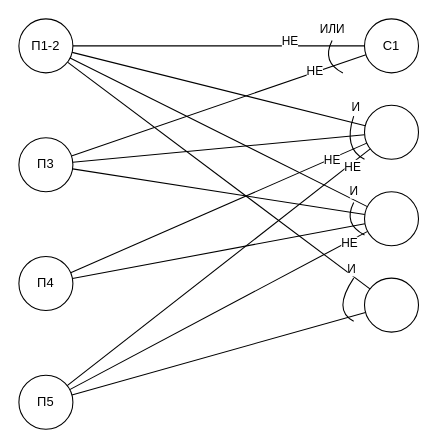
The diagram is 437 pixels wide and 448 high, and some of its shapes have lost their labels. The shapes that lost their labels are listed below. From the top down, each one's centre as x and y in pixels, then its label:
At pixel 390 131: "С2".
At pixel 390 218: "С3".
At pixel 390 304: "С4".
